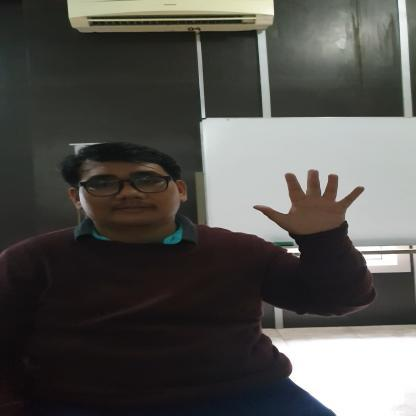Halo: (251, 168, 367, 239)
